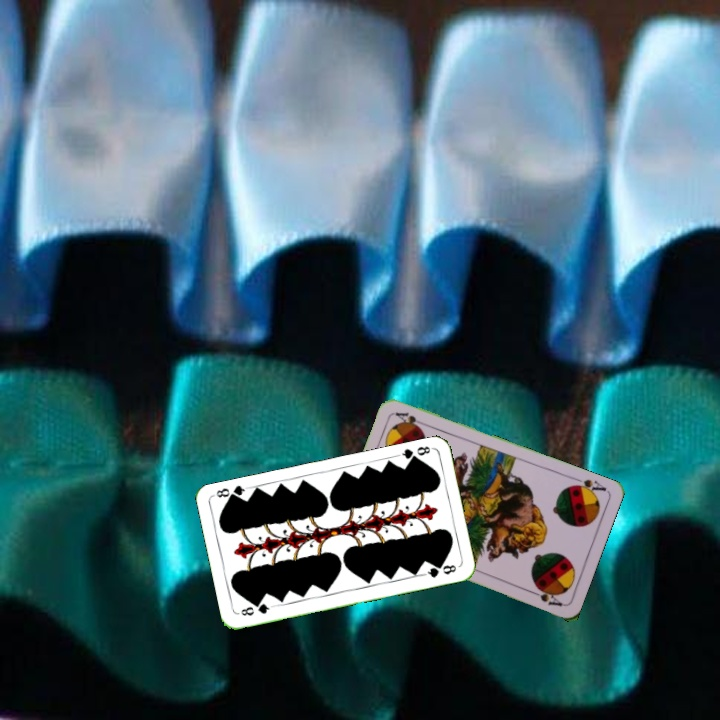G8: (394, 442, 434, 465), (237, 600, 275, 618)
SA: (567, 473, 609, 498)
